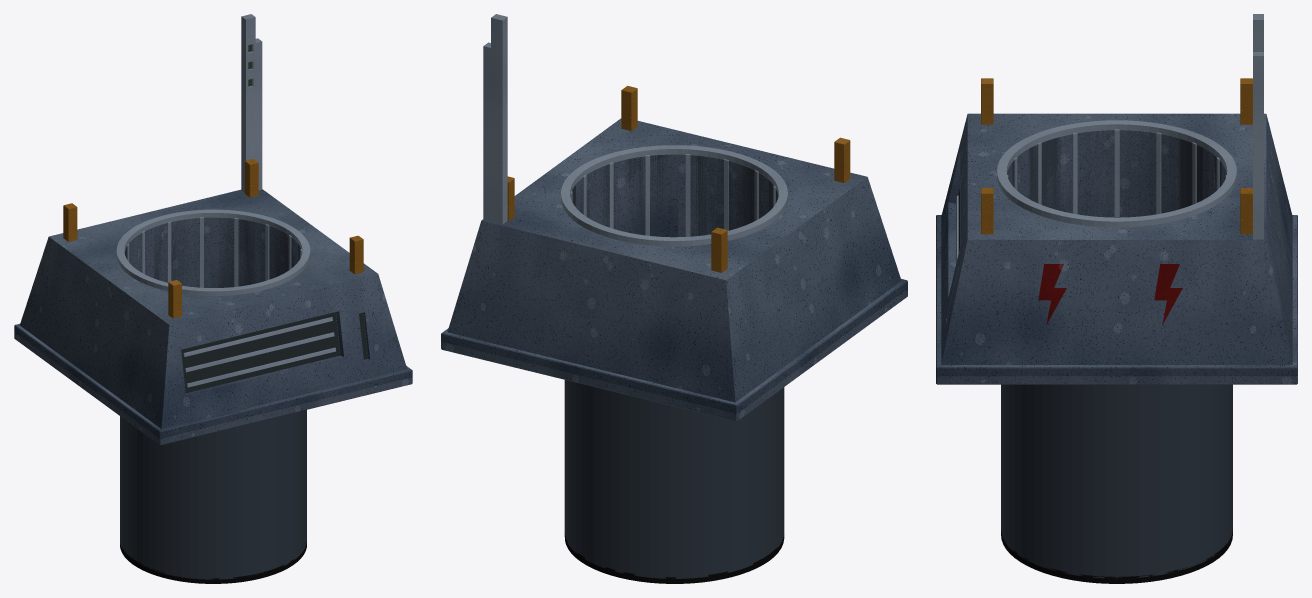
The picture shows the model from 3 angles, left to right: view 1: azimuth 30°, elevation 25°; view 2: azimuth 150°, elevation 25°; view 3: azimuth 270°, elevation 25°; orthographic projection. The views are drawn at different scales.
Parts seen in each view (by area): view 1: Satellite Pad sloping cast concrete body, Satellite Pad underground slate lining, Satellite Pad pale functional fittings, Satellite Pad low cast foot, Satellite Pad dark blind fields, Satellite Pad four brass posts, Satellite Pad deep black floor; view 2: Satellite Pad sloping cast concrete body, Satellite Pad underground slate lining, Satellite Pad pale functional fittings, Satellite Pad low cast foot, Satellite Pad four brass posts, Satellite Pad deep black floor; view 3: Satellite Pad sloping cast concrete body, Satellite Pad underground slate lining, Satellite Pad pale functional fittings, Satellite Pad low cast foot, Satellite Pad four brass posts, Satellite Pad two red source markings, Satellite Pad deep black floor.
Boxes of the visible parts, left/top/right/bottom form: Satellite Pad sloping cast concrete body: left=20, top=189, right=406, bottom=429; Satellite Pad underground slate lining: left=120, top=217, right=306, bottom=579; Satellite Pad pale functional fittings: left=116, top=14, right=335, bottom=387; Satellite Pad low cast foot: left=14, top=323, right=412, bottom=445; Satellite Pad dark blind fields: left=181, top=312, right=368, bottom=392; Satellite Pad four brass posts: left=63, top=159, right=363, bottom=318; Satellite Pad deep black floor: left=120, top=542, right=306, bottom=583; Satellite Pad sloping cast concrete body: left=447, top=118, right=901, bottom=402; Satellite Pad underground slate lining: left=564, top=154, right=784, bottom=578; Satellite Pad pale functional fittings: left=483, top=14, right=787, bottom=246; Satellite Pad low cast foot: left=441, top=279, right=907, bottom=421; Satellite Pad four brass posts: left=507, top=85, right=850, bottom=272; Satellite Pad deep black floor: left=564, top=532, right=784, bottom=583; Satellite Pad sloping cast concrete body: left=941, top=113, right=1292, bottom=364; Satellite Pad underground slate lining: left=1001, top=130, right=1232, bottom=578; Satellite Pad pale functional fittings: left=956, top=14, right=1263, bottom=263; Satellite Pad low cast foot: left=936, top=215, right=1297, bottom=384; Satellite Pad four brass posts: left=981, top=78, right=1252, bottom=234; Satellite Pad two red source markings: left=1038, top=264, right=1182, bottom=324; Satellite Pad deep black floor: left=1001, top=529, right=1232, bottom=583.
Size of the model in its own units: 1.84 by 3.22 by 1.84.
Materials: 8 (4 with a texture image).
